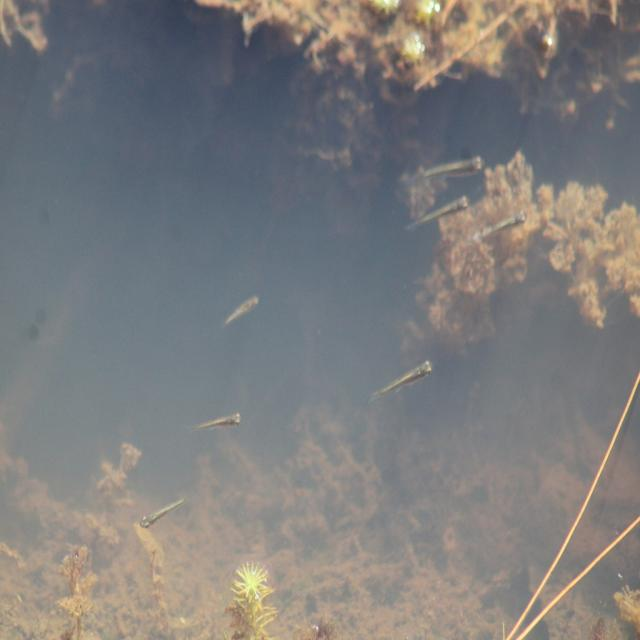Sivrisinek Baligi: (358, 332, 442, 424), (404, 192, 469, 237), (136, 493, 187, 534), (417, 153, 481, 184), (222, 288, 262, 332), (473, 211, 525, 244), (191, 406, 248, 436)
